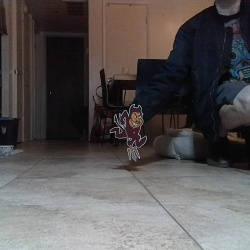sparky: (108, 103, 148, 163)
